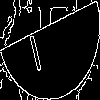I: (25, 25, 44, 73)
